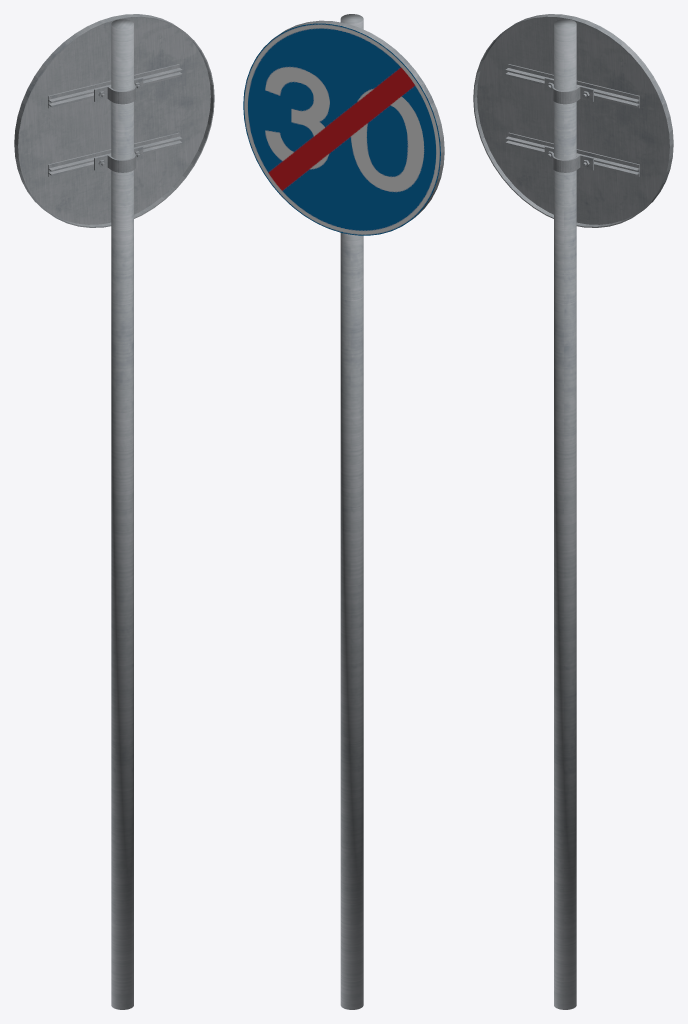
The model's file is End_of_minimum_speed_limit_30.fbx.
3 views of the same model, side by side, from view 1: azimuth 30°, elevation 25°; view 2: azimuth 150°, elevation 25°; view 3: azimuth 330°, elevation 25° (orthographic).
Parts seen in each view (by area): view 1: End of minimum speed limit 30; view 2: End of minimum speed limit 30; view 3: End of minimum speed limit 30.
Boxes of the visible parts, box(x1,y1,x2,y2) form: End of minimum speed limit 30: box(14, 14, 214, 1009); End of minimum speed limit 30: box(243, 14, 444, 1009); End of minimum speed limit 30: box(473, 14, 673, 1009).
Bounding box in the file's own units: 0.0876 × 0.6 × 2.86.
